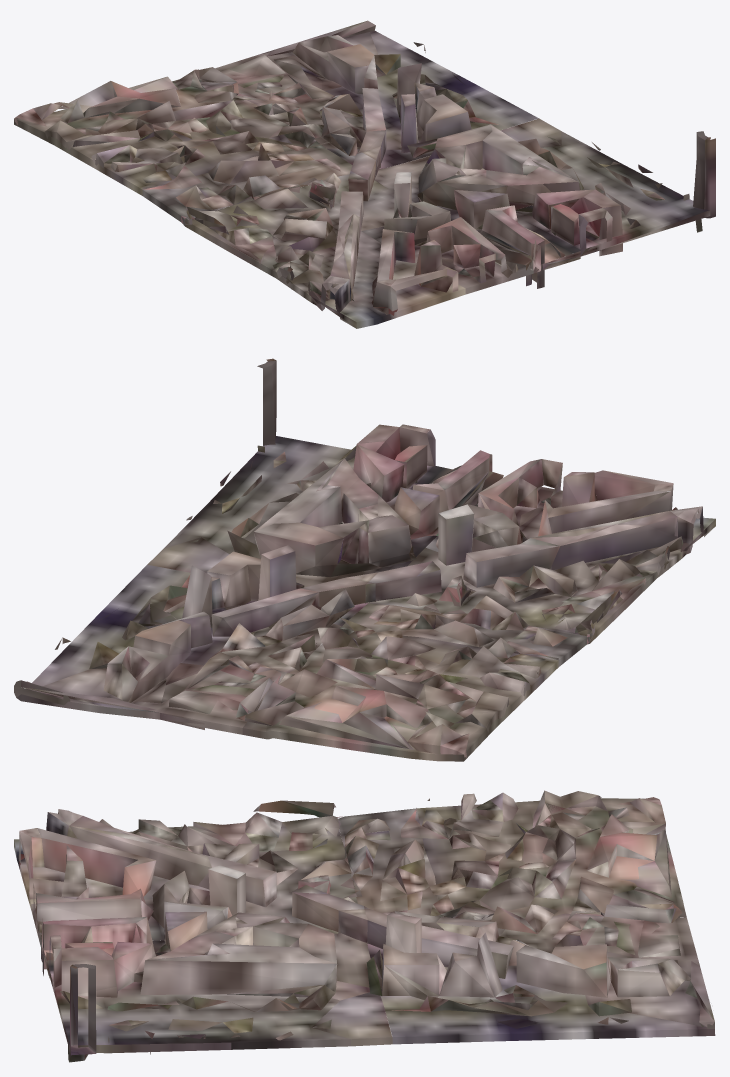
3 renders of one model, top to bottom at view 1: azimuth 30°, elevation 25°; view 2: azimuth 150°, elevation 25°; view 3: azimuth 270°, elevation 25°, orthographic. The views are drawn at different scales.
Visible parts, largest first — view 1: Mesh_0; view 2: Mesh_0; view 3: Mesh_0.
Boxes of the visible parts, x1,y1,x2,y2 form: Mesh_0: (14,20,715,328); Mesh_0: (14,358,715,761); Mesh_0: (14,790,715,1062).
Bounding box in the file's own units: 540 × 111 × 660.
2 materials, 2 textured.
